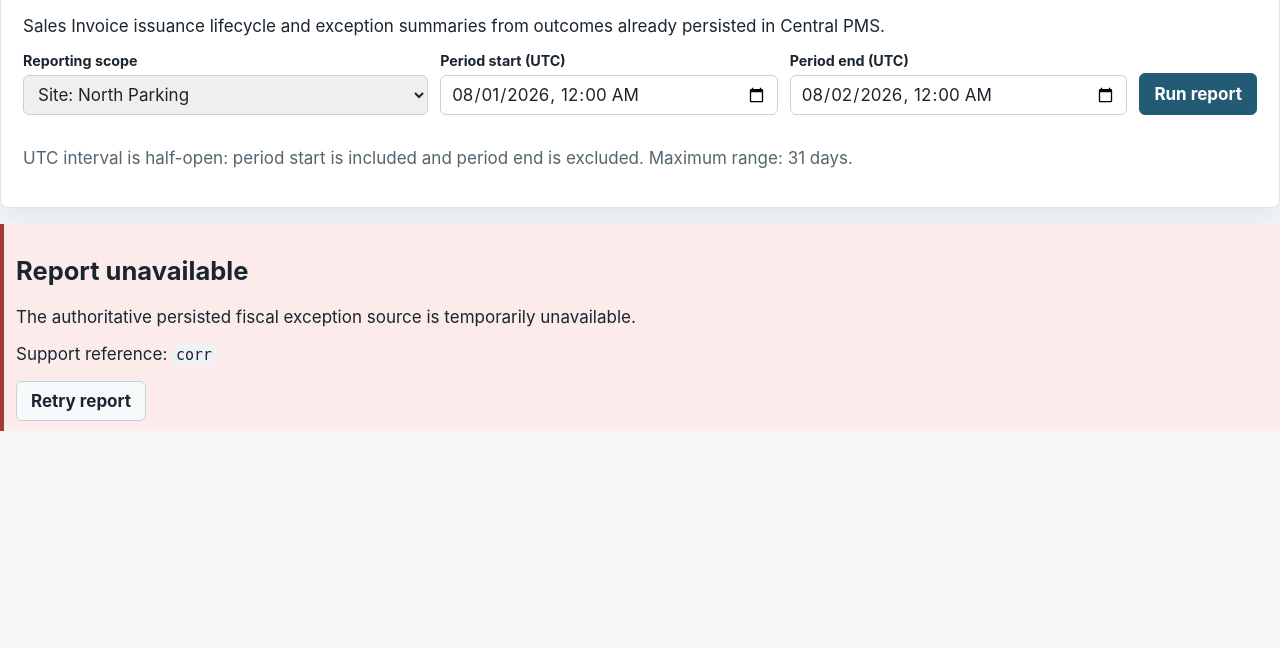
it: FiscalExceptionReportPage › offers a bounded retry for source failure
Click the button "Retry report": (81,401) [16, 381, 146, 421]
(page scrolled)
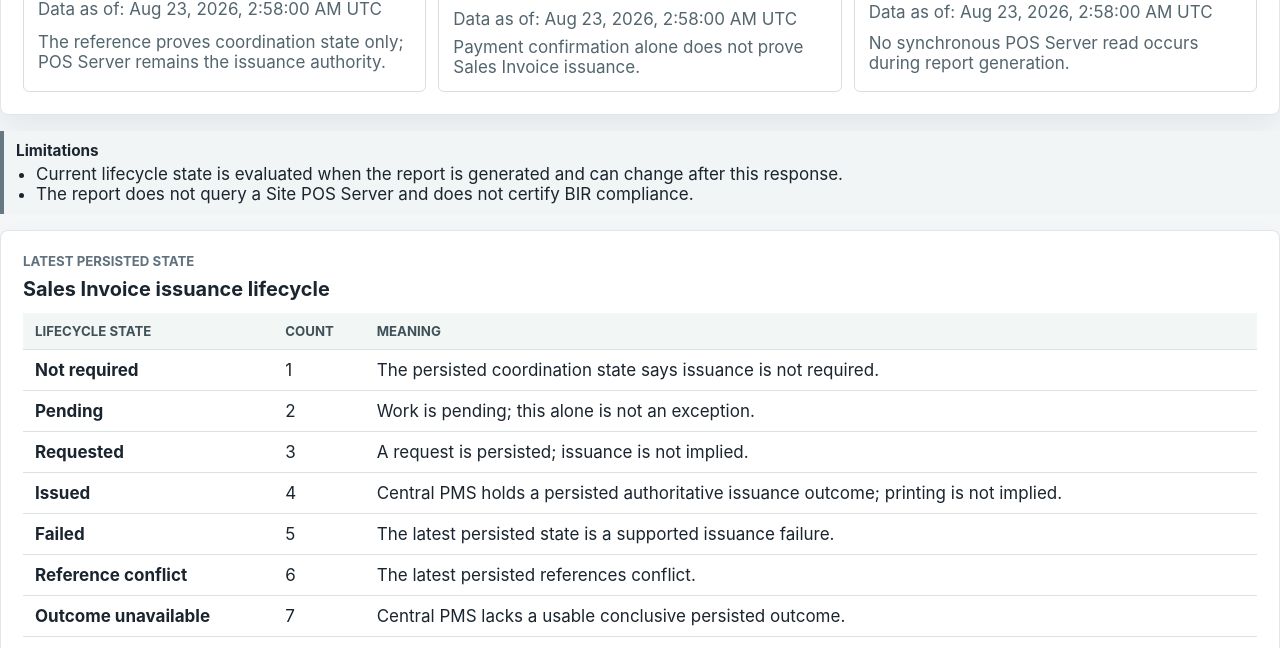
expect the heading "Sales Invoice issuance lifecycle" is shown: met, box [23, 277, 330, 301]
